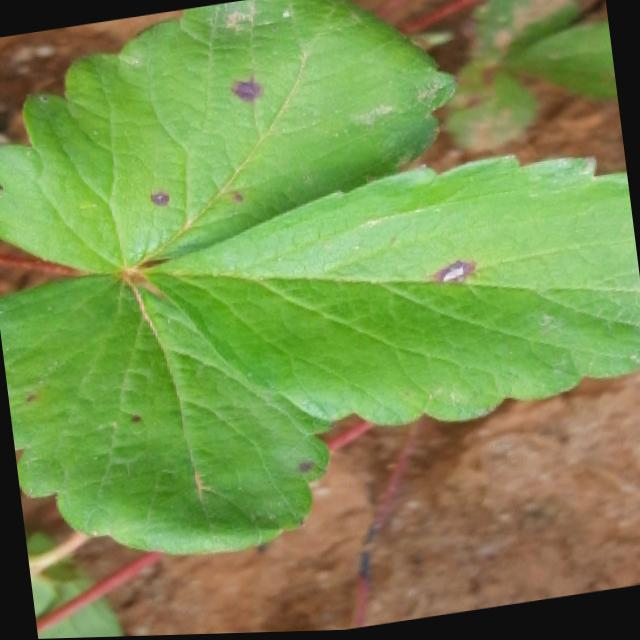Leaf Spot: (133, 156, 640, 428), (0, 0, 458, 275), (0, 274, 330, 556), (436, 62, 543, 158)
